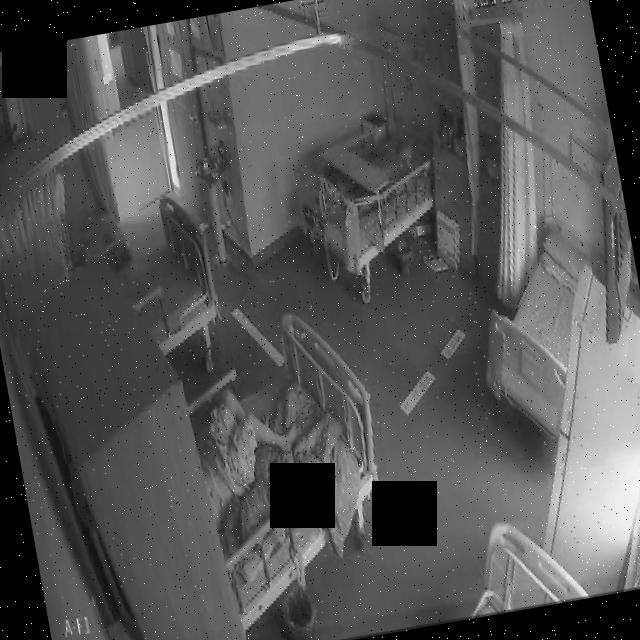bed: (176, 310, 394, 601), (460, 214, 610, 426), (280, 97, 447, 271), (106, 186, 227, 356)
lie: (186, 376, 314, 518)
patient: (184, 373, 314, 520), (382, 129, 418, 172)
